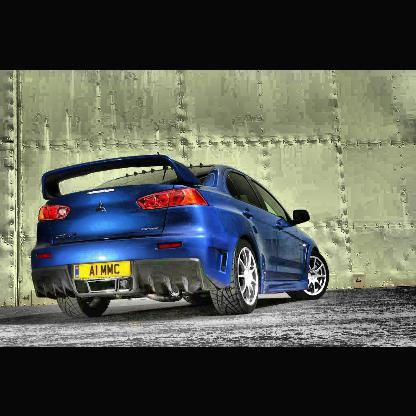Mitsubishi Lancer Sedan 2012: (31, 150, 332, 324)
